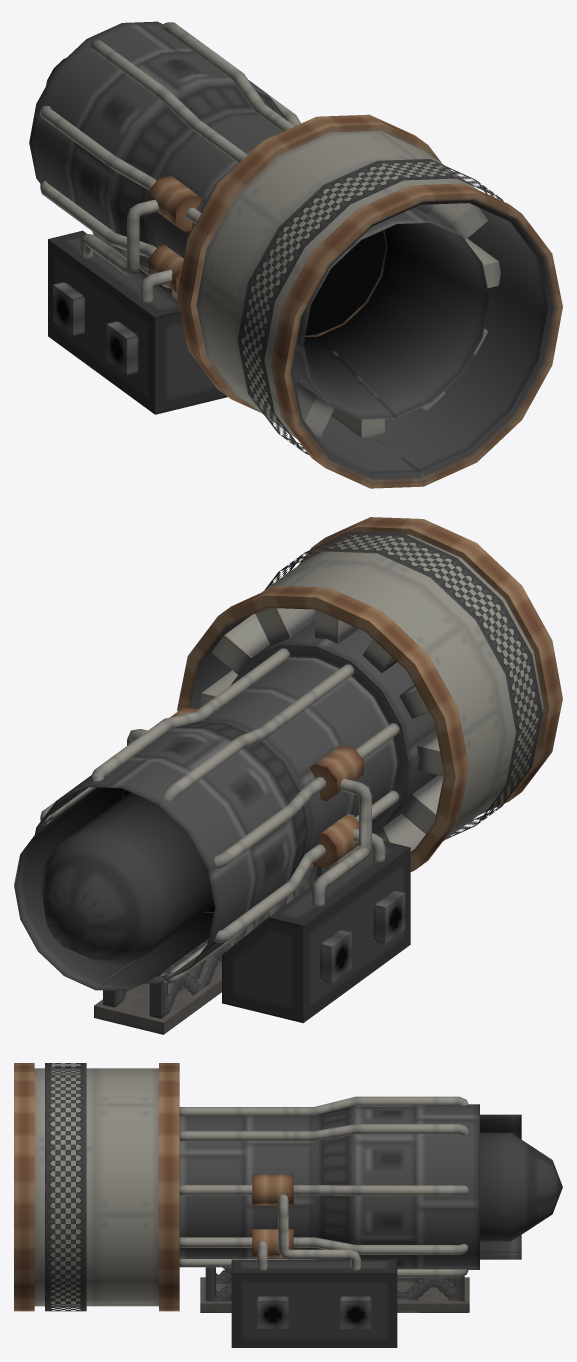
Rendered from turbofan_body.obj.
The picture shows the model from 3 angles, top to bottom: view 1: azimuth 30°, elevation 25°; view 2: azimuth 150°, elevation 25°; view 3: azimuth 270°, elevation 25°; orthographic projection. The views are drawn at different scales.
Parts seen in each view (by area): view 1: Body; view 2: Body; view 3: Body.
Boxes of the visible parts, left/top/right/bottom form: Body: left=29, top=21, right=562, bottom=488; Body: left=14, top=517, right=562, bottom=1034; Body: left=14, top=1063, right=562, bottom=1347.
Size of the model in its own units: 3 by 3 by 6.62.
